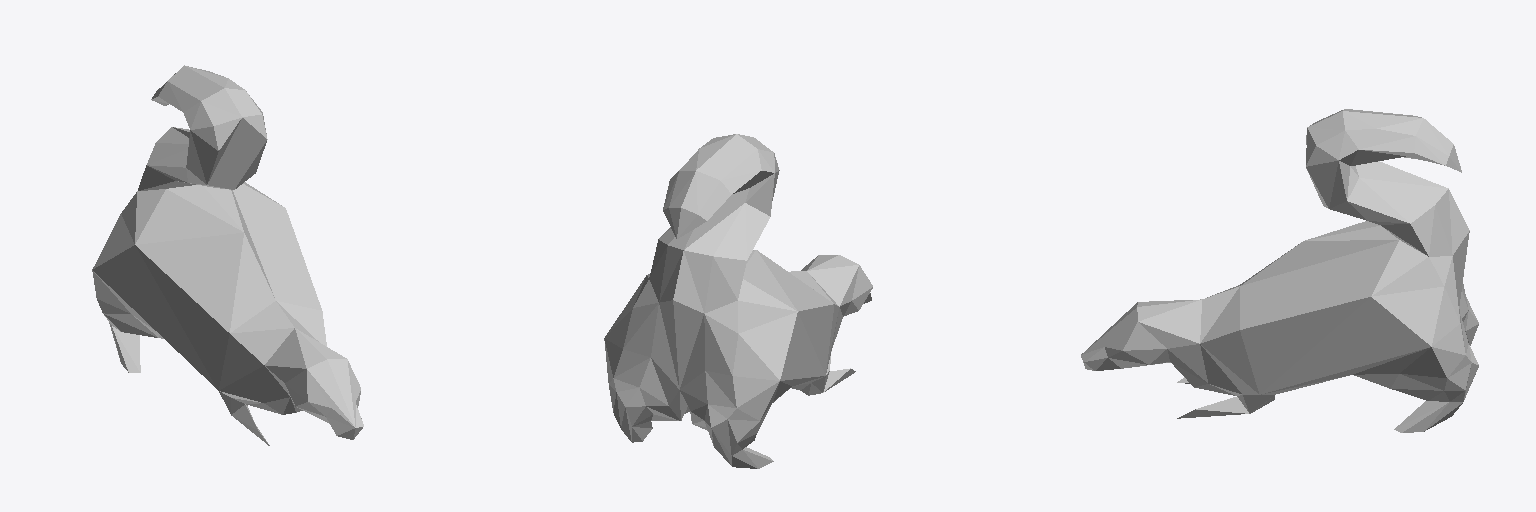
Rendered from skunk.obj.
3 views of the same model, side by side, from view 1: azimuth 30°, elevation 25°; view 2: azimuth 150°, elevation 25°; view 3: azimuth 270°, elevation 25° (orthographic).
Parts seen in each view (by area): view 1: skunk_geo; view 2: skunk_geo; view 3: skunk_geo.
Part boxes in pixels (left/top/right/bottom): skunk_geo: left=92, top=65, right=363, bottom=445; skunk_geo: left=604, top=134, right=872, bottom=468; skunk_geo: left=1081, top=109, right=1478, bottom=432.
Size of the model in its own units: 0.435 by 0.6855 by 0.8539.